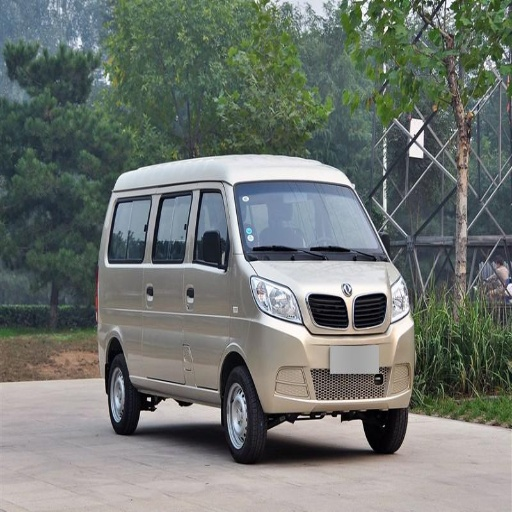front_bumper: (246, 288, 414, 412)
front_right_door: (180, 184, 234, 386)
front_right_light: (253, 278, 303, 323)
hood: (255, 261, 397, 295)
